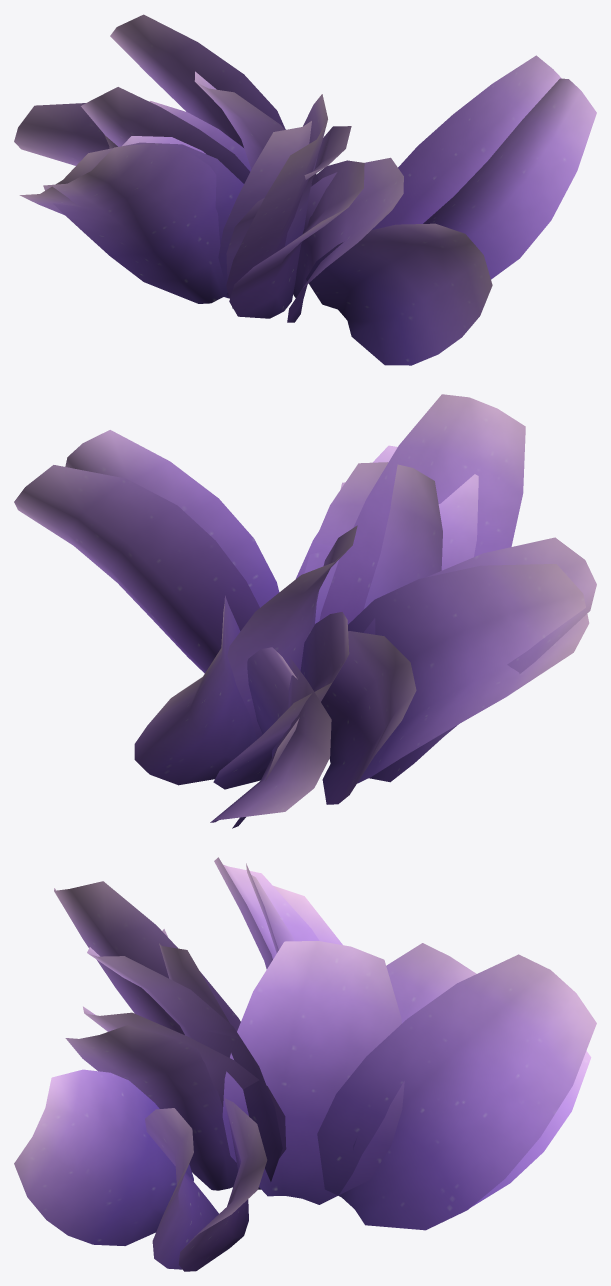
Rendered from Ground_FuzzMoss.fbx.
3 views of the same model, one above another, from view 1: azimuth 30°, elevation 25°; view 2: azimuth 150°, elevation 25°; view 3: azimuth 270°, elevation 25° (orthographic). The views are drawn at different scales.
Parts seen in each view (by area): view 1: Ground_FuzzMoss; view 2: Ground_FuzzMoss; view 3: Ground_FuzzMoss.
Part boxes in pixels (left/top/right/bottom): Ground_FuzzMoss: left=14, top=14, right=596, bottom=365; Ground_FuzzMoss: left=14, top=394, right=596, bottom=828; Ground_FuzzMoss: left=14, top=857, right=596, bottom=1271.
Bounding box in the file's own units: 0.2442 × 0.1282 × 0.2077.
